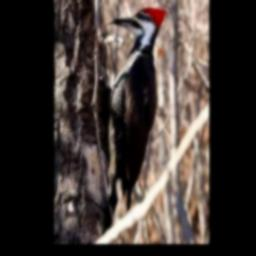Woodpecker: (106, 8, 166, 233)
